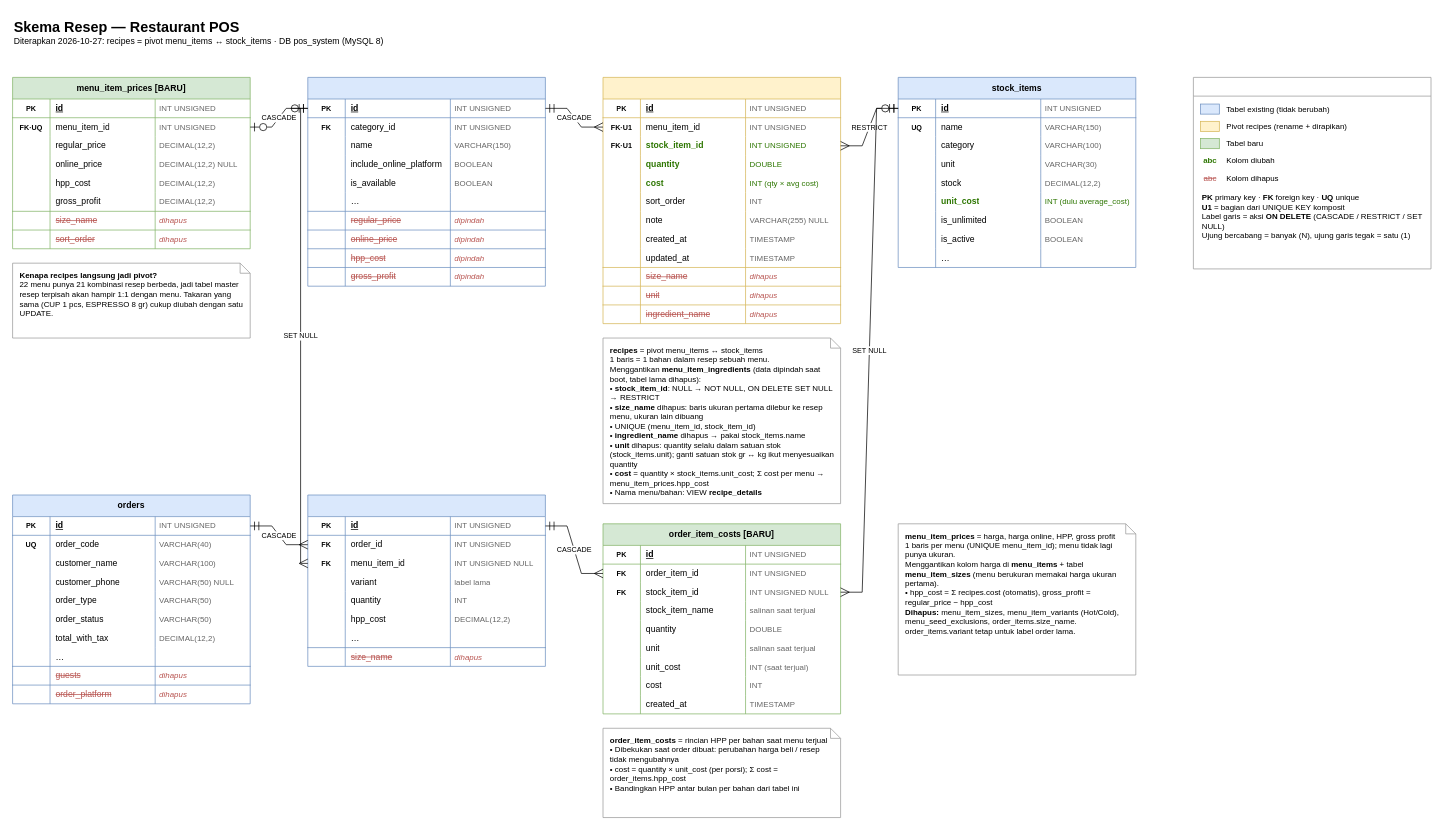
This 1444x830 diagram has some shape labels left out. Here are the shapes that lost their labels. From the top down, the box of each, then its label:
(307, 77, 545, 286): menu_items
(1193, 77, 1431, 269): Keterangan
(602, 77, 841, 324): recipes [PIVOT · dulu menu_item_ingredients]
(307, 494, 545, 666): order_items
